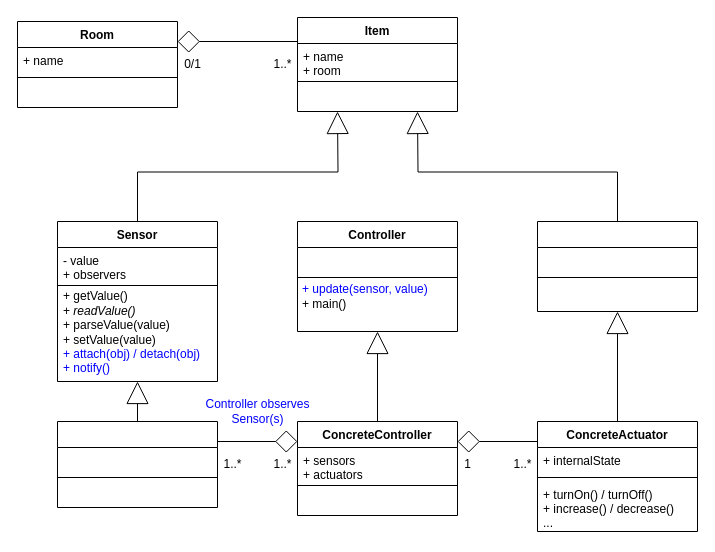
Some shapes in this 715 by 552 pixel diagram are drawn without their labels. Here are the shapes that lost their labels. From the top down, the centre of each, then its label:
pixel 617 266: Actuator
pixel 137 464: ConcreteSensor
